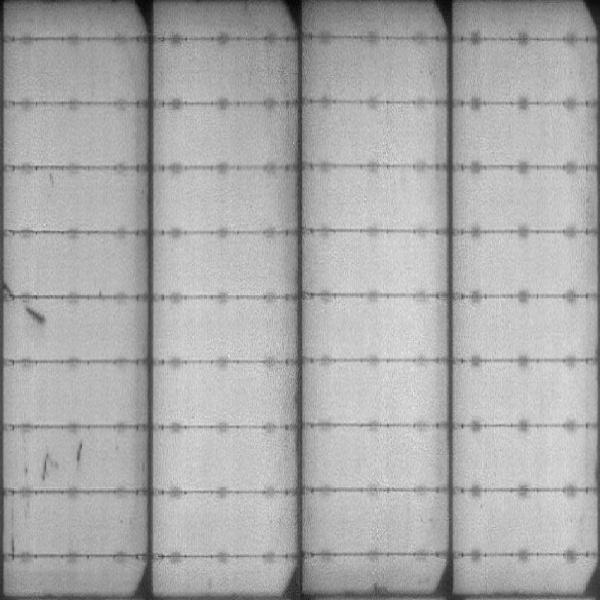scratch: (3, 278, 52, 326), (39, 446, 54, 484), (76, 435, 88, 466)
